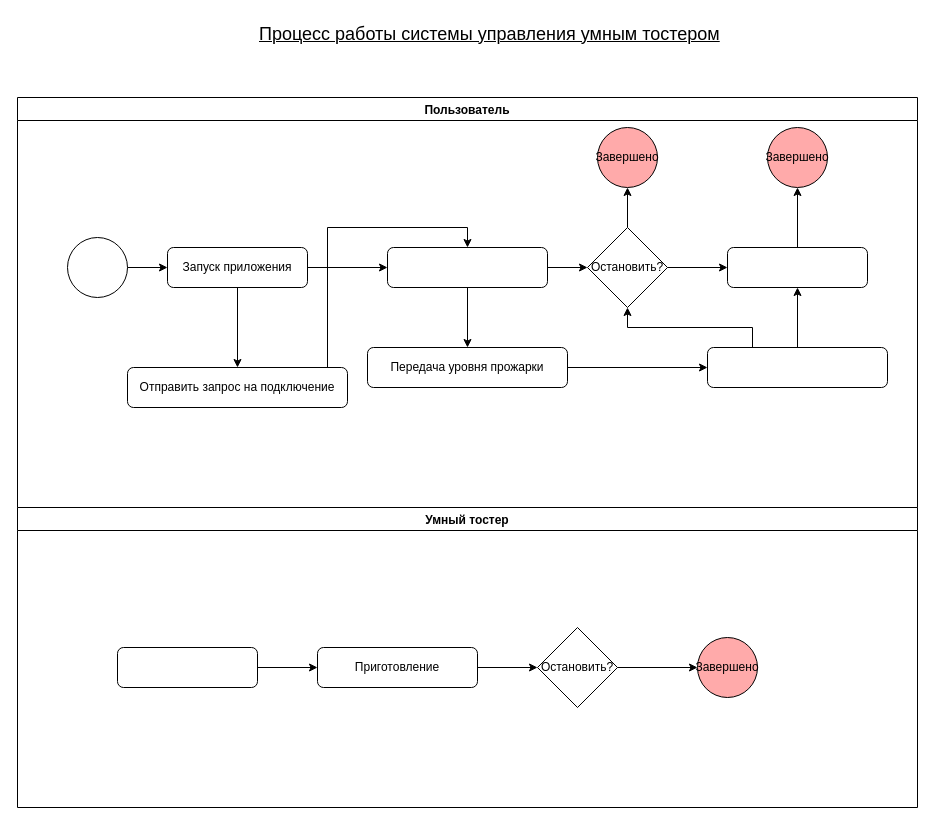
The diagram is 935 pixels wide and 825 high, and some of its shapes have lost their labels. The centre of each missing label's shape, as x and y in pixels:
Выбор уровня прожарки: the point at 467,267
Начало: the point at 97,267
Подключение: the point at 187,667
Тосты готовы: the point at 797,267
Управление процессом: the point at 797,367
